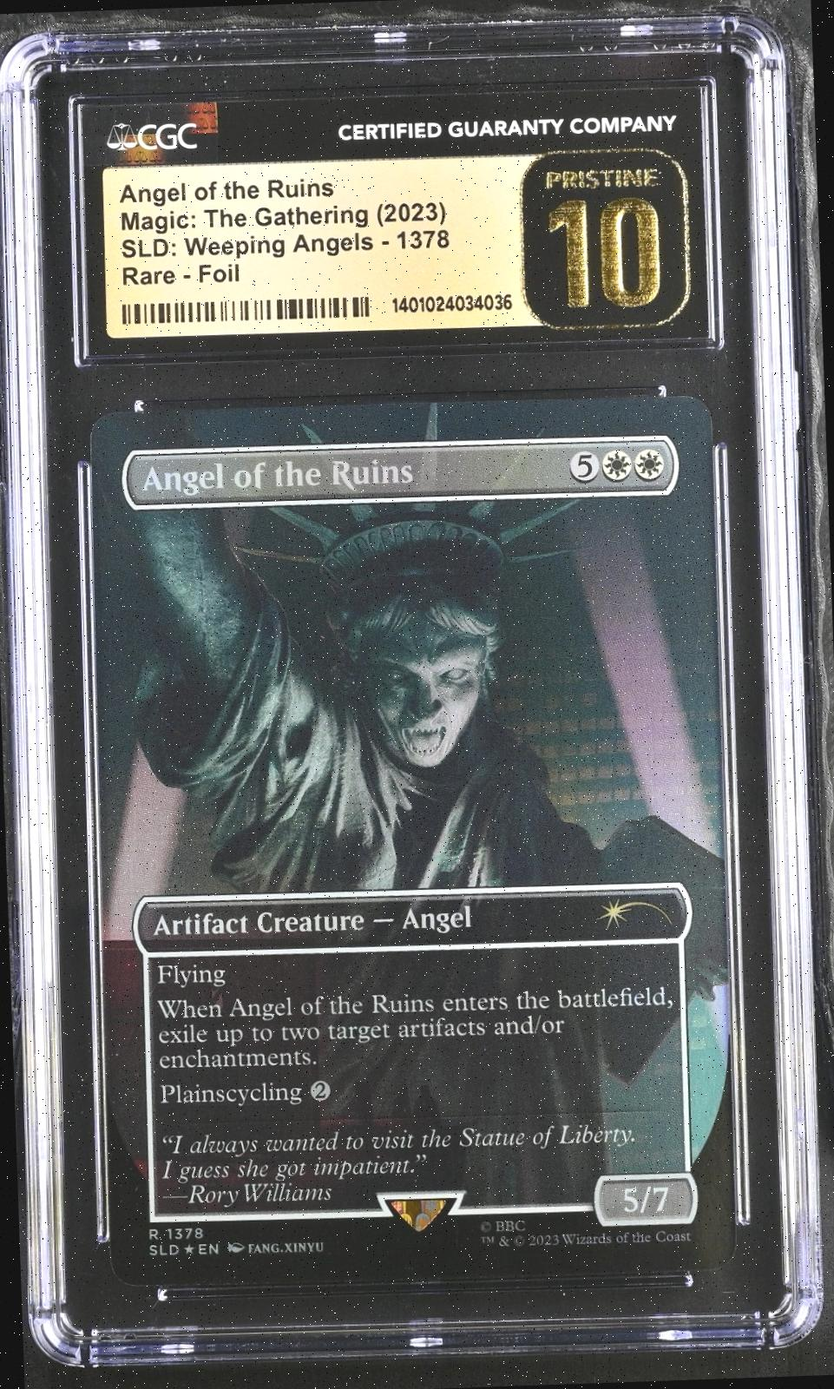card-2UtV: (89, 396, 736, 1287)
